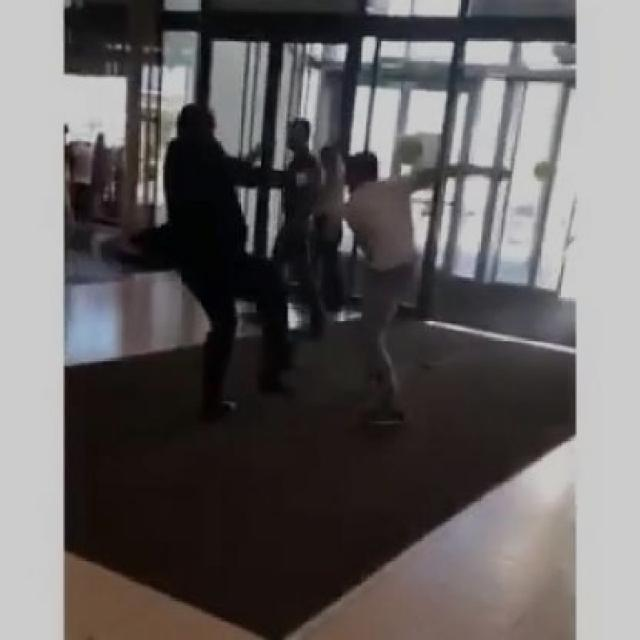fight: (134, 94, 504, 428)
